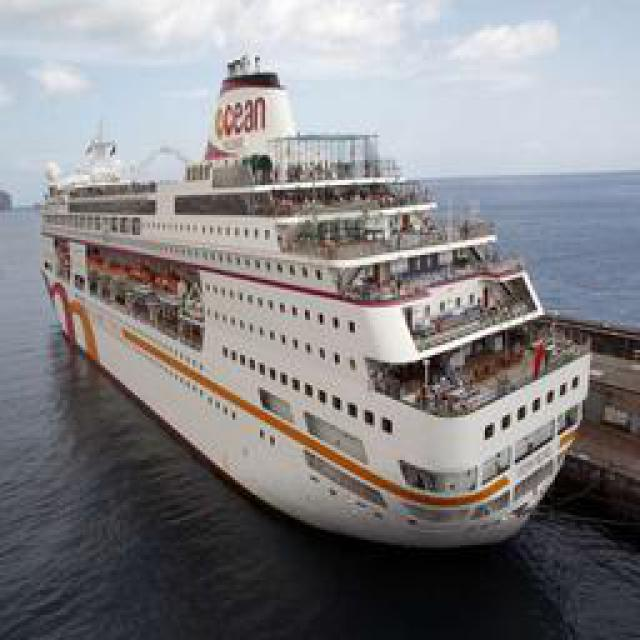Ship: (35, 54, 593, 557)
